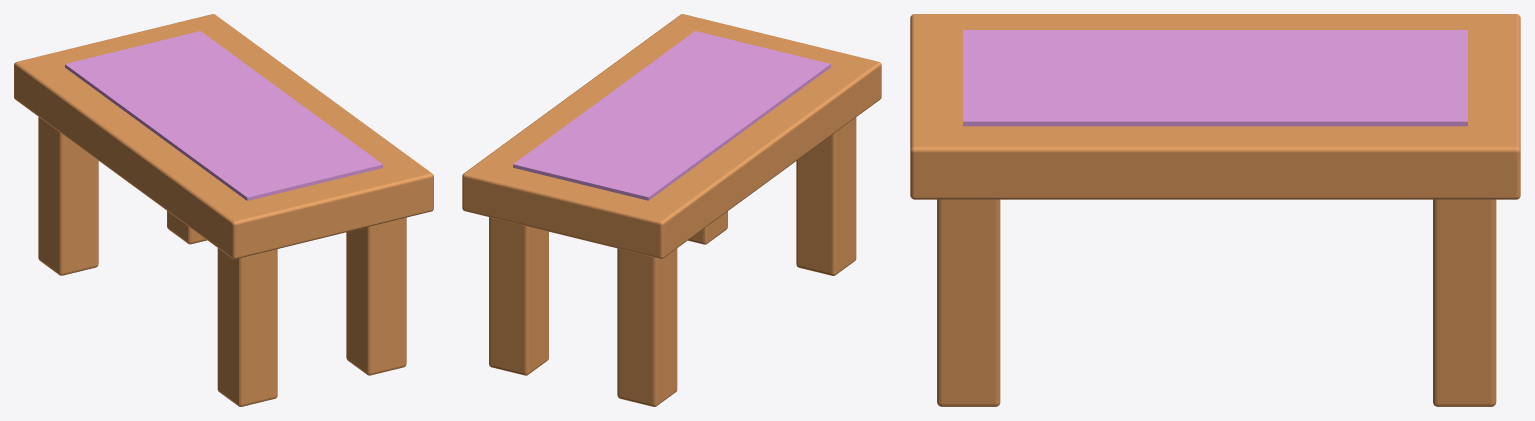
Rendered from chairs.fbx.
3 views of the same model, side by side, from view 1: azimuth 30°, elevation 25°; view 2: azimuth 150°, elevation 25°; view 3: azimuth 270°, elevation 25° (orthographic). The views are drawn at different scales.
Visible parts, largest first — view 1: Cube, 柱.002, 柱.003, 柱, 柱.001; view 2: Cube, 柱, 柱.001, 柱.002, 柱.003; view 3: Cube, 柱.001, 柱.003.
Boxes of the visible parts, <box> form: Cube: <box>14,14,433,259</box>; 柱.002: <box>217,248,277,406</box>; 柱.003: <box>346,217,406,375</box>; 柱: <box>38,117,98,275</box>; 柱.001: <box>167,211,206,244</box>; Cube: <box>462,14,881,258</box>; 柱: <box>617,248,677,406</box>; 柱.001: <box>489,217,548,375</box>; 柱.002: <box>796,117,856,275</box>; 柱.003: <box>688,211,727,244</box>; Cube: <box>910,14,1520,199</box>; 柱.001: <box>1433,199,1496,406</box>; 柱.003: <box>937,199,1000,406</box>.
Size of the model in its own units: 2 by 1.89 by 3.79.
